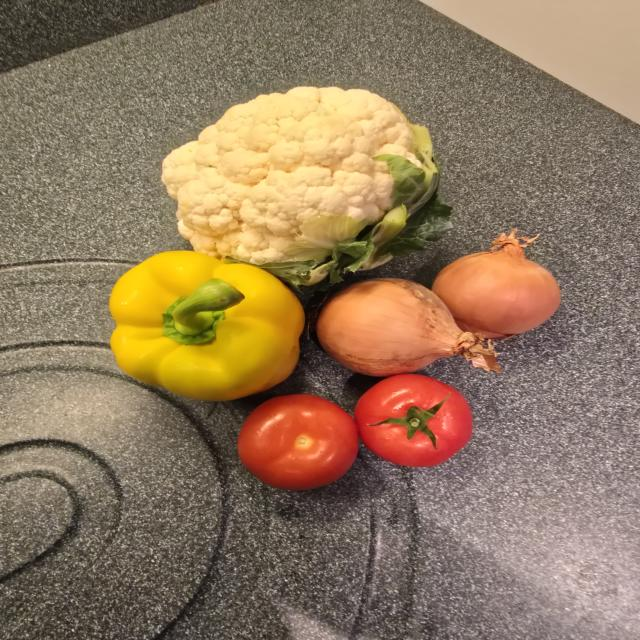Bell Pepper: (109, 251, 304, 401)
Cauliflower: (161, 87, 452, 287)
Onion: (317, 278, 466, 376), (432, 230, 561, 338)
Tomato: (237, 394, 358, 490), (354, 374, 472, 467)
